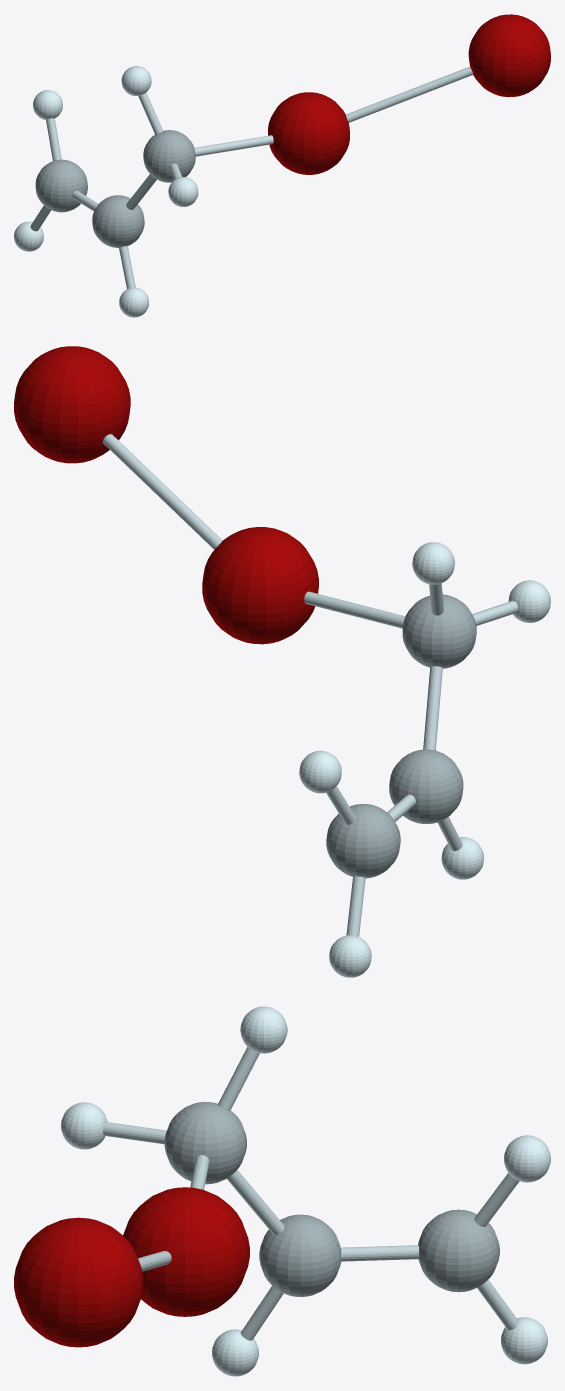
The model's file is irc_step_118.glb.
The picture shows the model from 3 angles, top to bottom: view 1: azimuth 30°, elevation 25°; view 2: azimuth 150°, elevation 25°; view 3: azimuth 270°, elevation 25°; orthographic projection. The views are drawn at different scales.
Visible parts, largest first — view 1: Renderer Node; view 2: Renderer Node; view 3: Renderer Node.
Boxes of the visible parts, x1,y1,x2,y2 form: Renderer Node: [14, 14, 550, 317]; Renderer Node: [14, 346, 550, 977]; Renderer Node: [14, 1006, 550, 1376].
Size of the model in its own units: 5.93 by 3.73 by 4.55.
